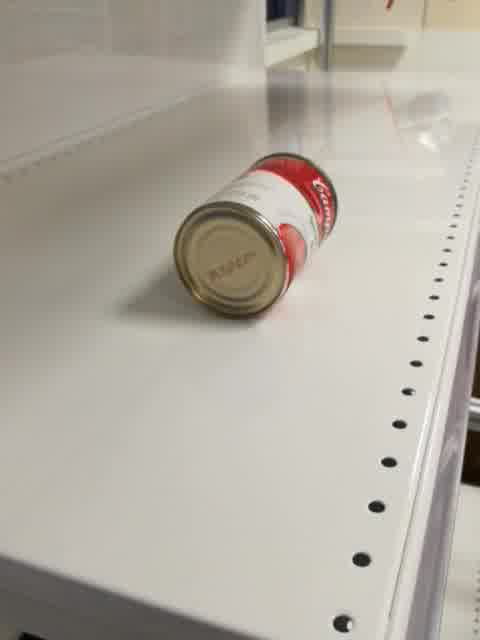tomatosoup: (171, 151, 338, 318)
